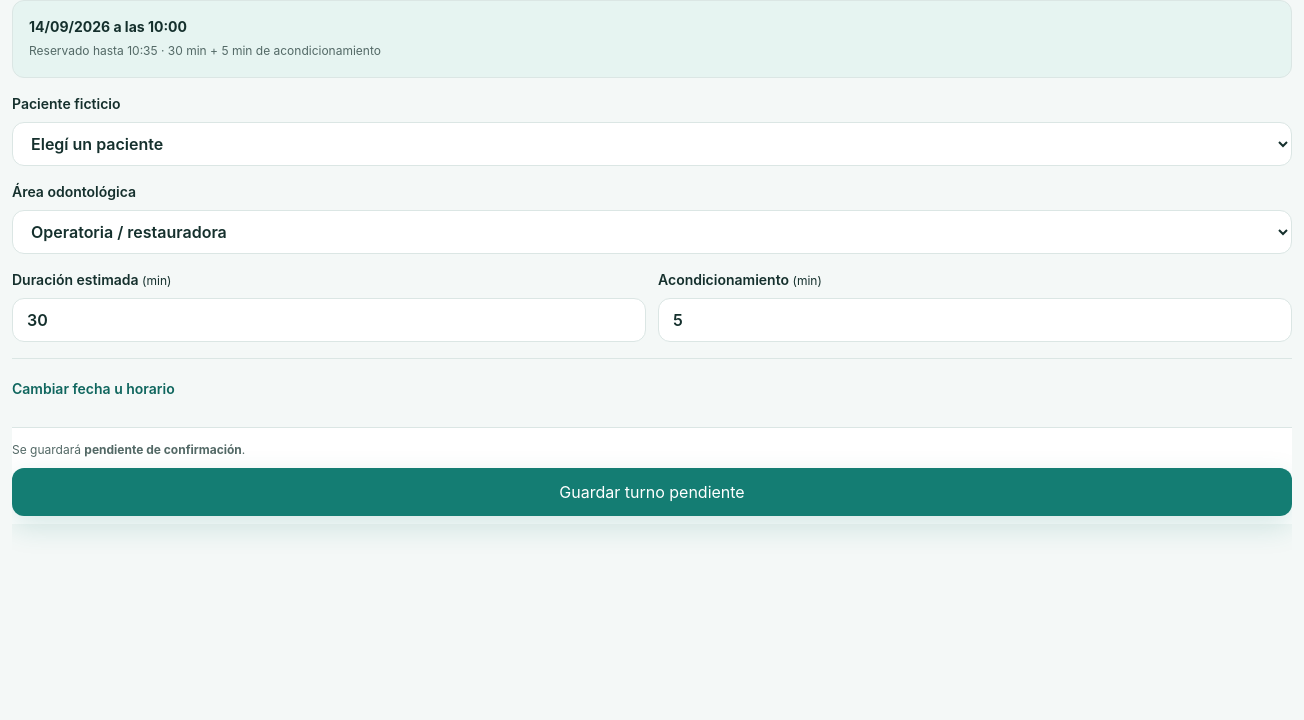
it: appointment time selection › does not replace a missing patient with the first patient after validation
Click the button "Guardar turno pendiente" at (652, 492), box [12,468,1292,516]
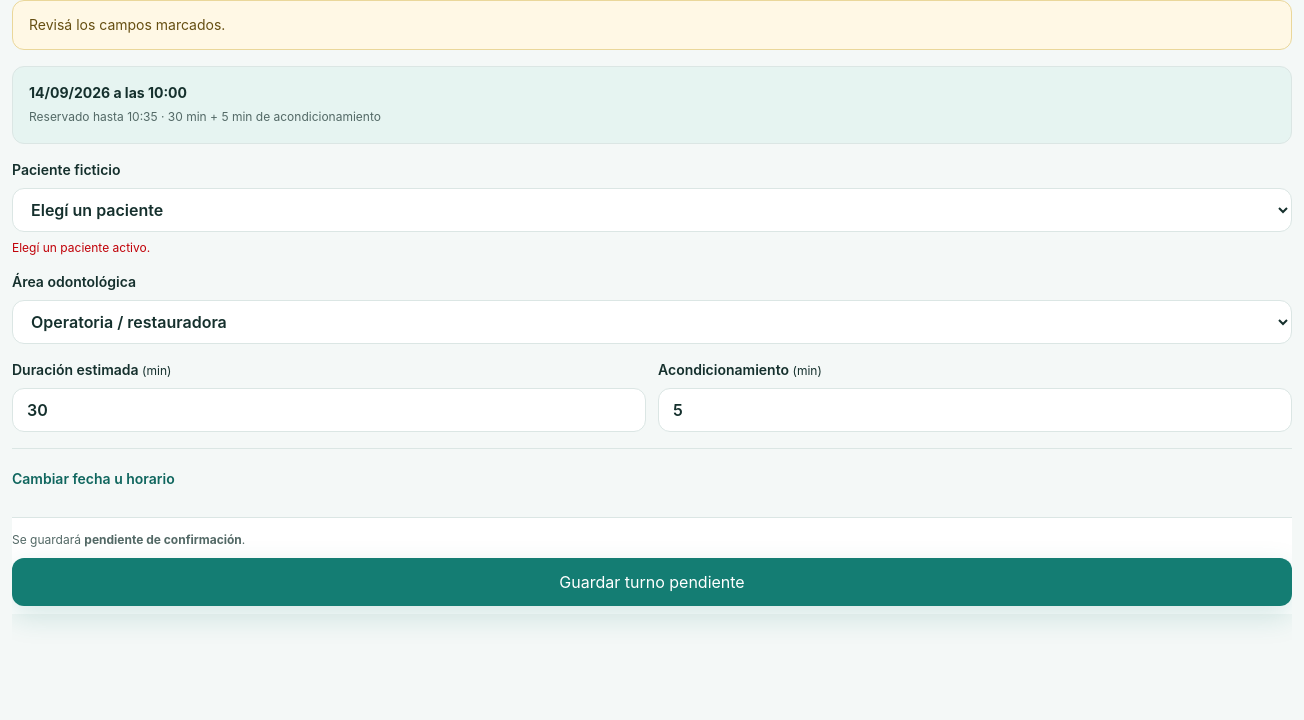
Expected: the dropdown labelled "Paciente ficticio Elegí un paciente activo." shows "Elegí un paciente", [12,188,1292,232]
Now the message "Revisá los campos marcados." is shown, box [12,0,1292,50]
